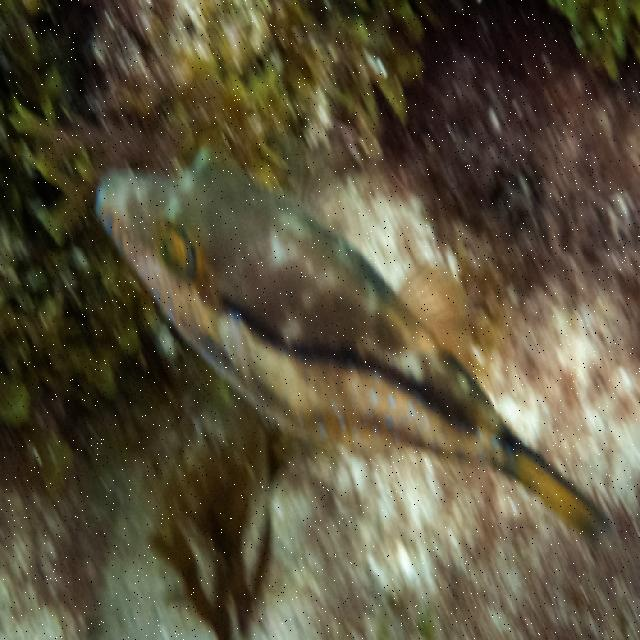Balik: (96, 152, 606, 535)
